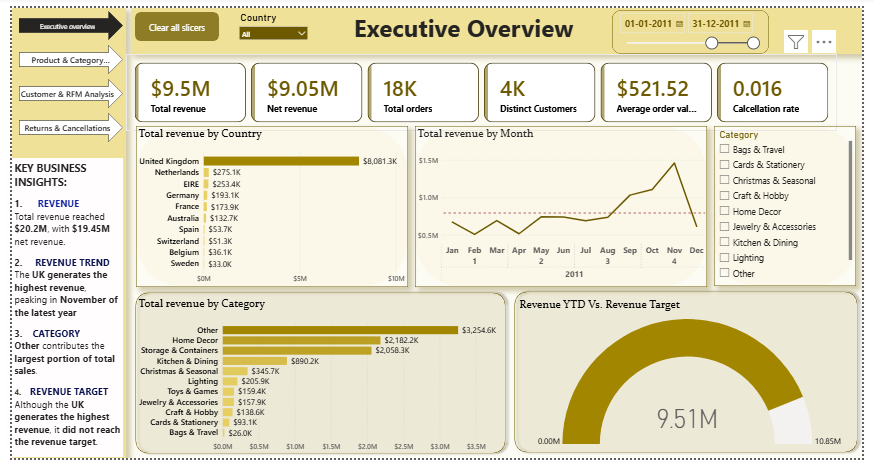

What the dashboard file says about the page in this screenshot:
{"tool":"powerbi","page":{"name":"Executive overview","canvas":[1700,900],"ordinal":0},"visuals":[{"type":"shape","box":[238,560,758,340],"z":0},{"type":"shape","box":[0,0,228,900],"z":1000},{"type":"clusteredBarChart","fields":{"Y":["1 measures table.Total revenue"],"Category":["Dim_product.Category"]},"box":[248,576,744,320],"z":2000},{"type":"shape","box":[238,0,1462,92],"z":3000},{"type":"cardVisual","fields":{"Data":["1 measures table.Total revenue","1 measures table.net revenue","1 measures table.Total orders","1 measures table.Distinct Customers","1 measures table.Average order value","1 measures table.Calcellation rate"]},"box":[228,92,1422,154],"z":4000},{"type":"shape","box":[248,236,544,322],"z":5000},{"type":"shape","box":[806,236,584,322],"z":6000},{"type":"lineChart","title":"Total revenue by Month","fields":{"Y":["1 measures table.Total revenue"],"Category":["Calendar.Year Hierarchy.Year","Calendar.Year Hierarchy.quarter","Calendar.Year Hierarchy.Month name"]},"box":[806,236,586,320],"z":7000},{"type":"shape","box":[996,558,704,340],"z":8000},{"type":"clusteredBarChart","fields":{"Y":["1 measures table.Total revenue"],"Category":["Dim_Customer.Country"]},"box":[248,236,544,324],"z":9000},{"type":"shape","box":[1404,236,284,320],"z":10000},{"type":"gauge","title":"Revenue YTD Vs. Revenue Target","fields":{"Y":["1 measures table.Revenue YTD"],"MaxValue":["1 measures table.Revenue Target"]},"box":[1010,578,690,304],"z":11000},{"type":"slicer","fields":{"Values":["Dim_product.Category"]},"box":[1402,236,284,320],"z":12000},{"type":"actionButton","box":[246,8,168,58],"z":13000},{"type":"slicer","fields":{"Values":["Dim_Customer.Country"]},"box":[444,2,158,66],"z":14000},{"type":"textbox","box":[640,0,526,74],"z":15000},{"type":"pageNavigator","box":[14,6,208,262],"z":16000},{"type":"shape","box":[1200,4,314,88],"z":17000},{"type":"slicer","fields":{"Values":["Calendar.Date"]},"box":[1204,0,300,92],"z":18000},{"type":"textbox","box":[0,300,222,598],"z":19000}]}

Visuals, with their boxes in screenshot pixels (x1, y1, x2, y2), scaled from the page's 1700x900 canvas onto the 874x465 screenshot:
shape: region(122, 289, 512, 464)
shape: region(0, 0, 117, 464)
clusteredBarChart - 1 measures table.Total revenue x Dim_product.Category: region(128, 298, 510, 463)
shape: region(122, 0, 873, 48)
cardVisual - 1 measures table.Total revenue x 1 measures table.net revenue: region(117, 48, 848, 127)
shape: region(128, 122, 407, 288)
shape: region(414, 122, 715, 288)
"Total revenue by Month" lineChart: region(414, 122, 716, 287)
shape: region(512, 288, 873, 464)
clusteredBarChart - 1 measures table.Total revenue x Dim_Customer.Country: region(128, 122, 407, 289)
shape: region(722, 122, 868, 287)
"Revenue YTD Vs. Revenue Target" gauge: region(519, 299, 873, 456)
slicer - Dim_product.Category: region(721, 122, 867, 287)
actionButton: region(126, 4, 213, 34)
slicer - Dim_Customer.Country: region(228, 1, 309, 35)
textbox: region(329, 0, 599, 38)
pageNavigator: region(7, 3, 114, 138)
shape: region(617, 2, 778, 48)
slicer - Calendar.Date: region(619, 0, 773, 48)
textbox: region(0, 155, 114, 464)
